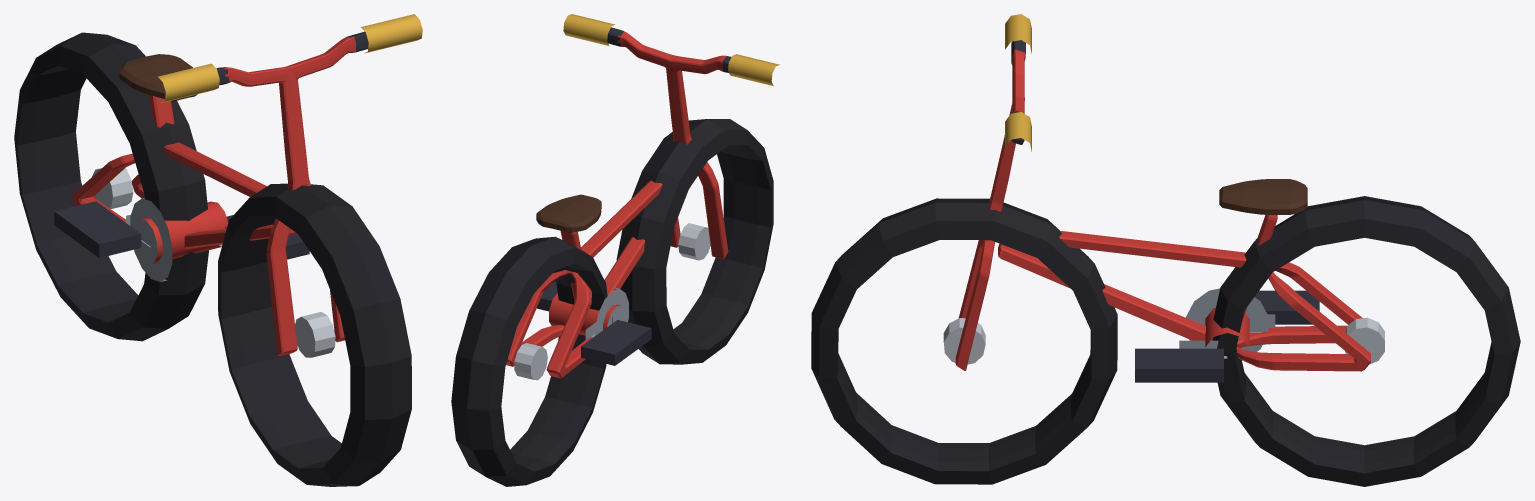
The model's file is bike.glb.
3 views of the same model, side by side, from view 1: azimuth 30°, elevation 25°; view 2: azimuth 150°, elevation 25°; view 3: azimuth 270°, elevation 25° (orthographic). The views are drawn at different scales.
Parts seen in each view (by area): view 1: wheel_f_m, wheel_b_m, fork_m, frame_m, bar_m, pedal_r_m, crank_m, saddle_m, pedal_l_m; view 2: wheel_f_m, wheel_b_m, frame_m, fork_m, bar_m, pedal_r_m, saddle_m, crank_m; view 3: wheel_f_m, wheel_b_m, frame_m, fork_m, pedal_l_m, saddle_m, crank_m, bar_m, pedal_r_m.
Boxes of the visible parts, x1,y1,x2,y2 form: wheel_f_m: (218,183,411,486); wheel_b_m: (14,32,208,341); fork_m: (220,36,356,356); frame_m: (72,95,297,263); bar_m: (158,14,422,102); pedal_r_m: (54,201,141,257); crank_m: (126,197,226,281); saddle_m: (119,54,197,101); pedal_l_m: (226,215,309,259); wheel_f_m: (616,119,773,364); wheel_b_m: (451,236,607,486); frame_m: (506,180,662,378); fork_m: (617,31,728,259); bar_m: (563,14,779,86); pedal_r_m: (581,320,651,365); saddle_m: (536,194,601,232); crank_m: (585,287,628,339); wheel_f_m: (811,198,1117,484); wheel_b_m: (1212,196,1520,486); frame_m: (998,215,1370,371); fork_m: (955,49,1025,370); pedal_l_m: (1135,348,1223,382); saddle_m: (1219,179,1307,214); crank_m: (1179,288,1275,360); bar_m: (1005,14,1031,151); pedal_r_m: (1255,290,1319,324).
Size of the model in its own units: 0.4283 by 0.656 by 1.04.
